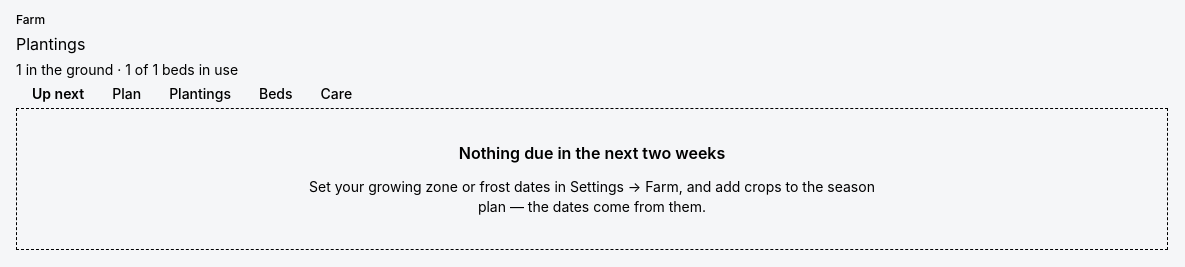
plantings › opens on what is up next, with the plantings a tab away
Click the tab "Plantings" at (200, 94), box [157,84,243,104]
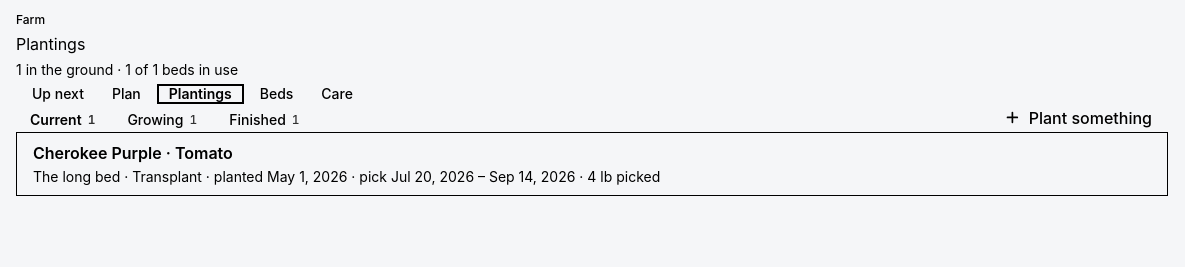
Now the list named "Plantings" is shown, box [16,132,1168,196]
